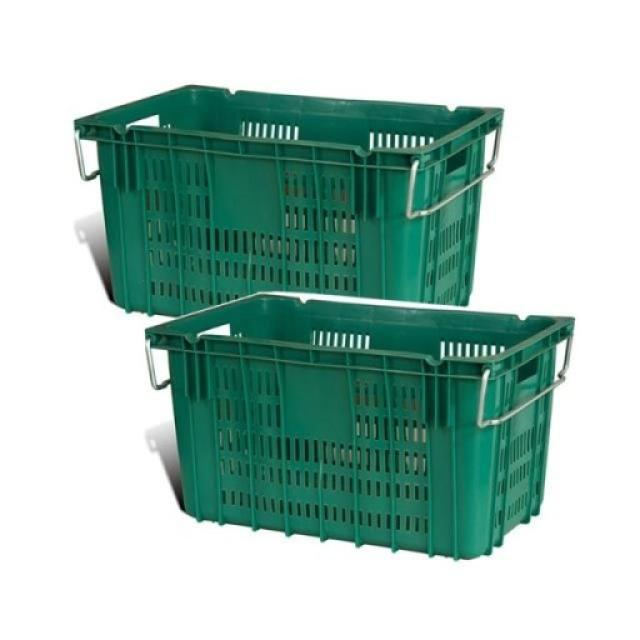basket: (129, 283, 574, 566), (62, 77, 504, 339)
